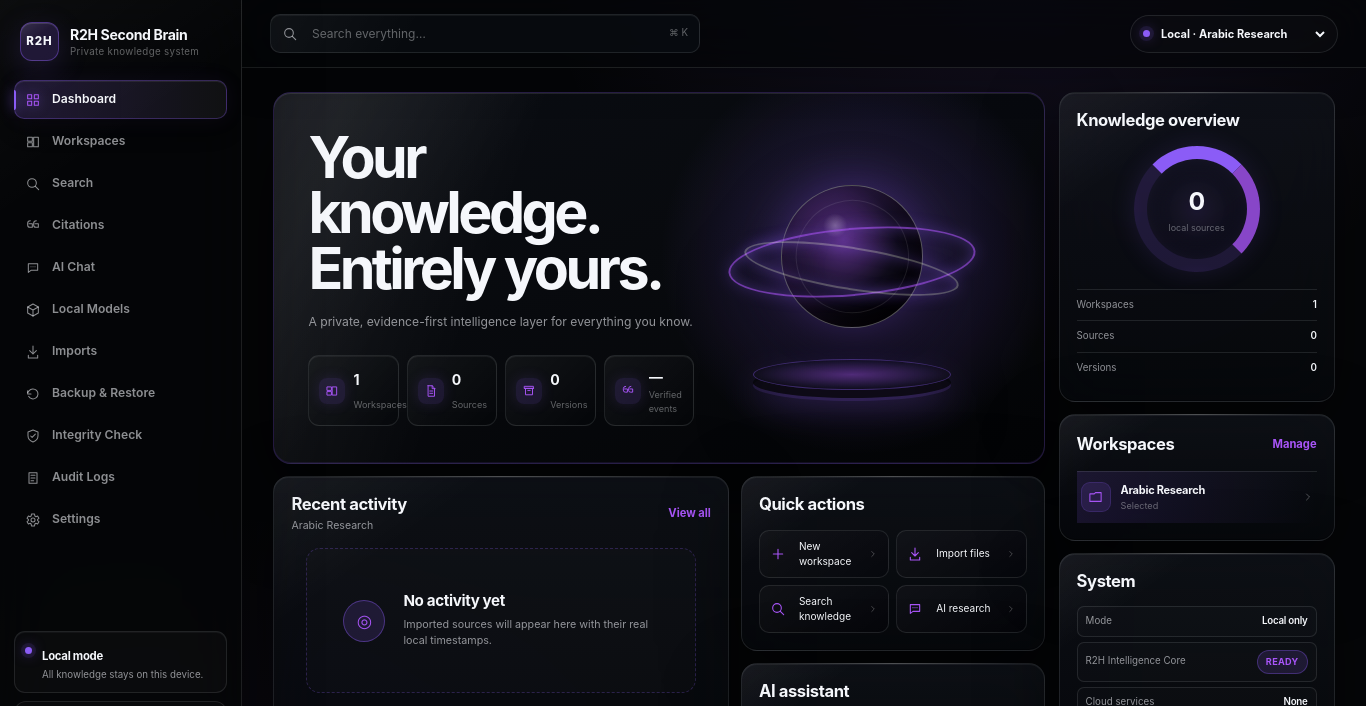
Test case: R2H Second Brain desktop interface › resolves evidence through the citation command before showing details
Click the button "Search" at (120, 184), box left=14, top=164, right=227, bottom=203
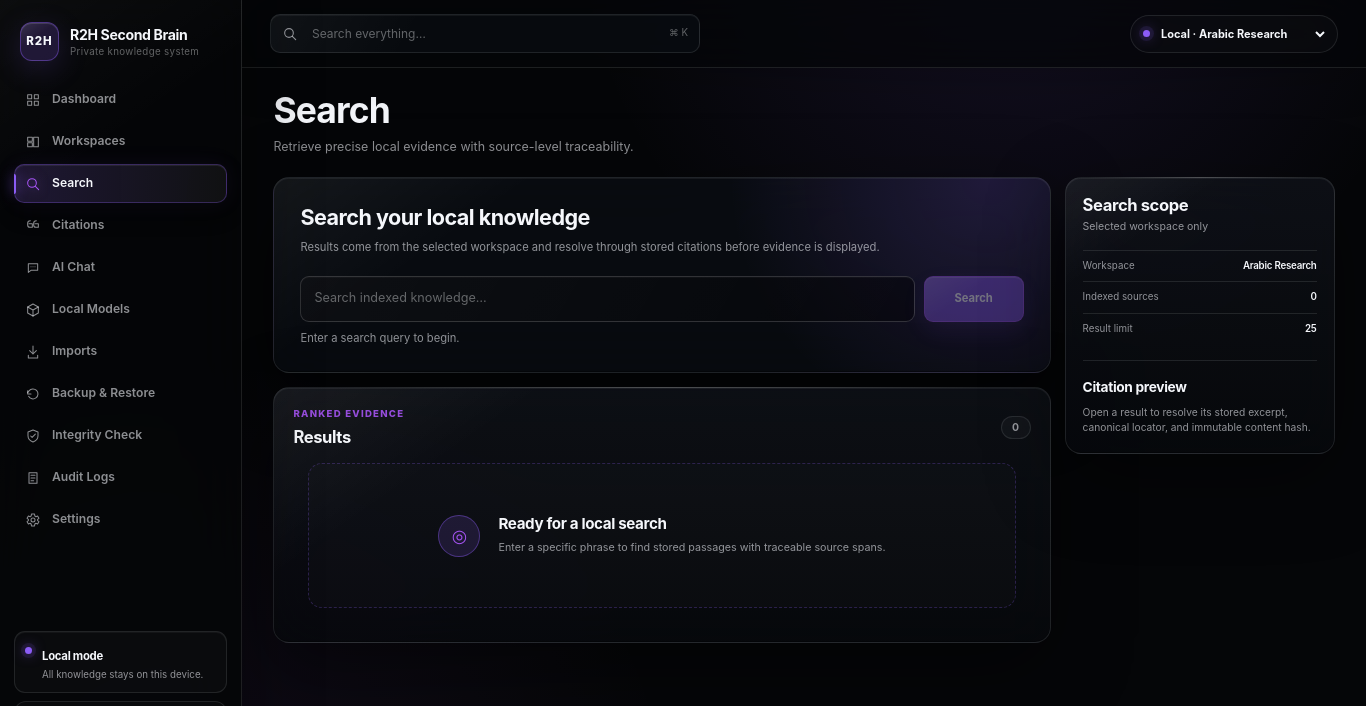
Type "المعرفة" into the field named "search query" at (608, 299), box left=300, top=276, right=915, bottom=322
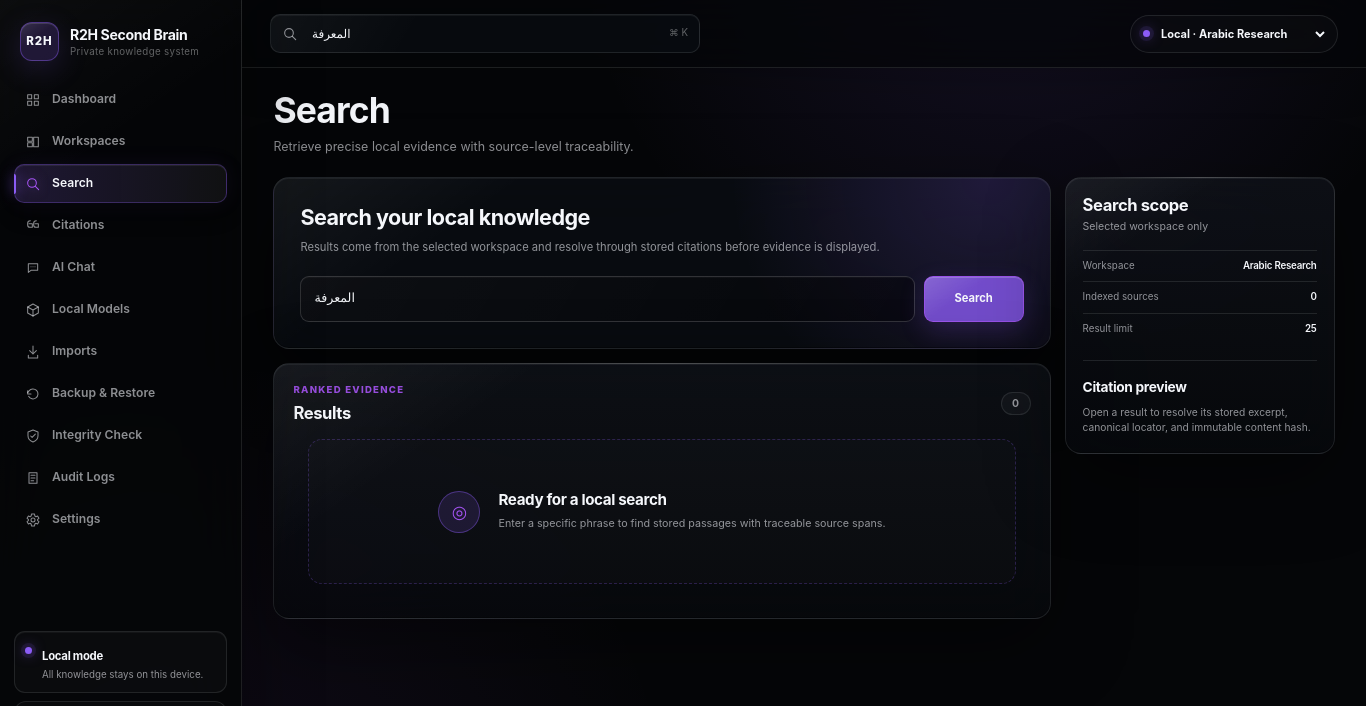
Click the button "Search" at (974, 299), box left=924, top=276, right=1024, bottom=322
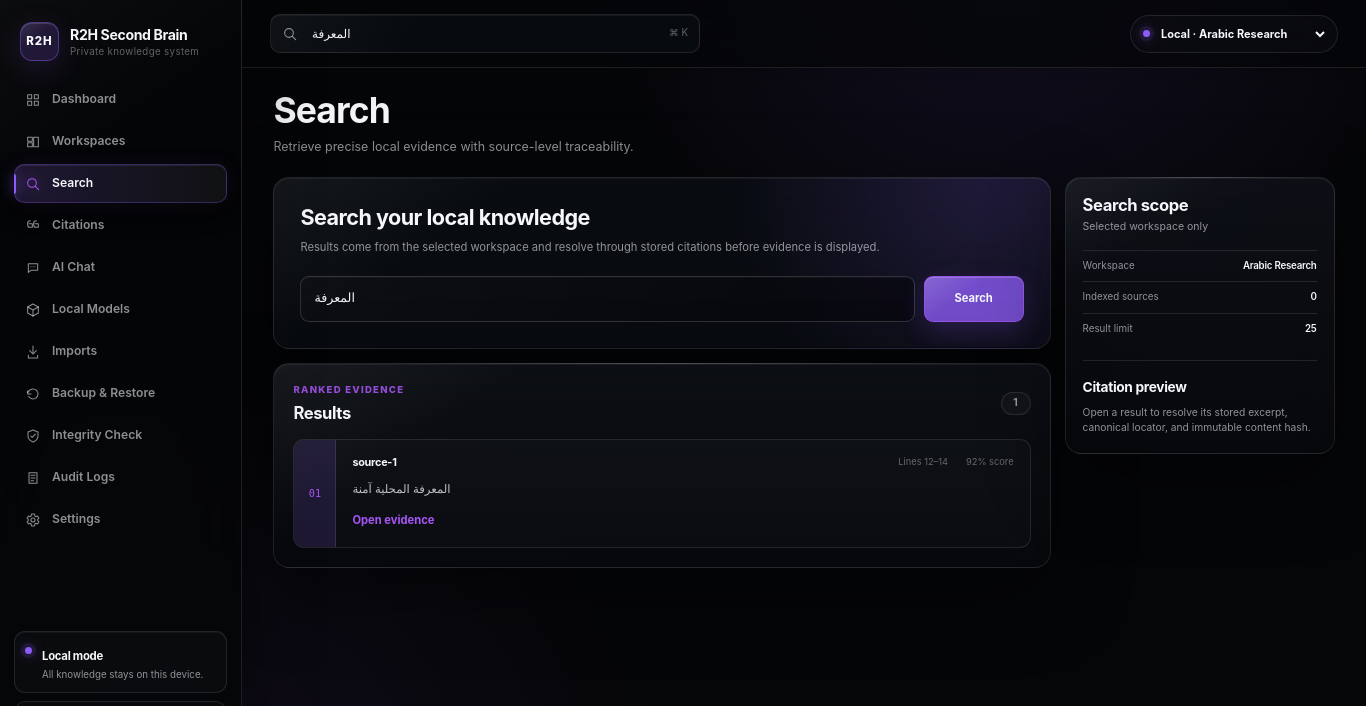
Click the button "Open evidence" at (393, 521), box left=352, top=508, right=434, bottom=533
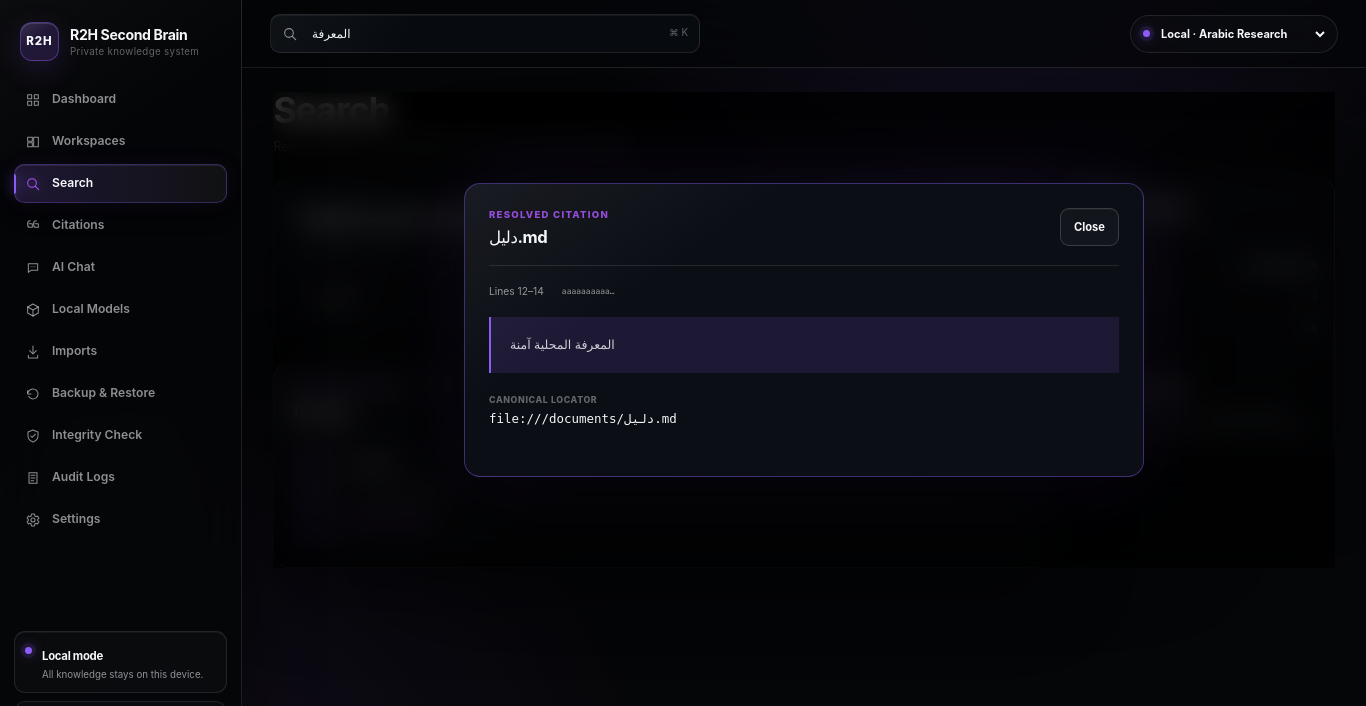
Result: the dialog shows "file:///documents/دليل.md" at left=489, top=411, right=677, bottom=426
